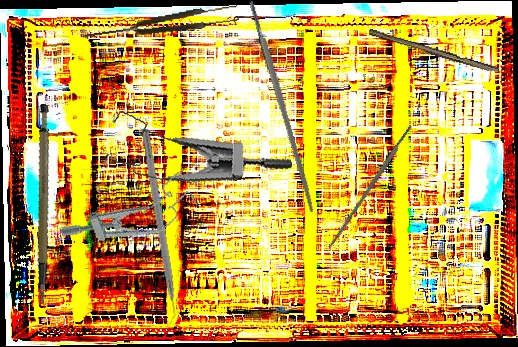Chopper: (130, 128, 181, 329)
Scalpel Handle: (247, 0, 318, 213), (6, 103, 76, 305), (326, 124, 415, 250), (367, 28, 500, 76)
Speculum: (95, 81, 293, 205), (55, 167, 206, 266)
Tissue Forceps: (84, 3, 240, 45)
